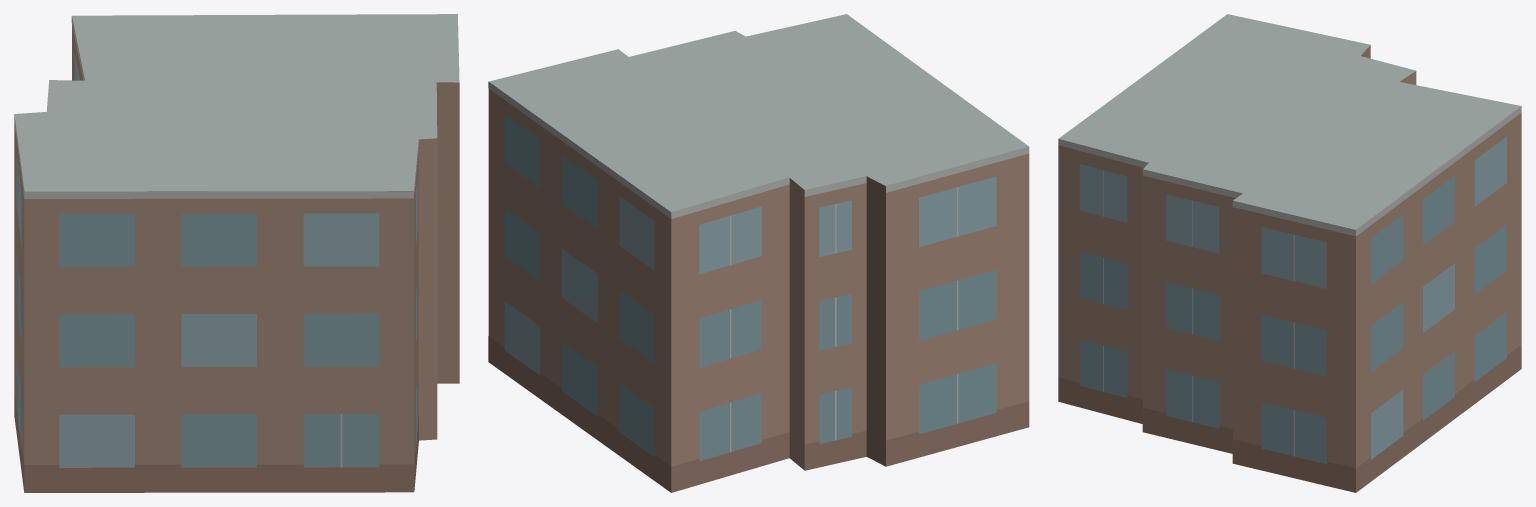
File: survey-upis-32657063.glb
3 views of the same model, side by side, from view 1: azimuth 30°, elevation 25°; view 2: azimuth 150°, elevation 25°; view 3: azimuth 270°, elevation 25° (orthographic). The views are drawn at different scales.
Visible parts, largest first — view 1: survey-upis-32657063.tmp; view 2: survey-upis-32657063.tmp; view 3: survey-upis-32657063.tmp.
Boxes of the visible parts, left/top/right/bottom form: survey-upis-32657063.tmp: left=14, top=14, right=459, bottom=492; survey-upis-32657063.tmp: left=488, top=14, right=1029, bottom=492; survey-upis-32657063.tmp: left=1058, top=14, right=1521, bottom=492.
Bounding box in the file's own units: 17.62 × 10 × 15.98.
